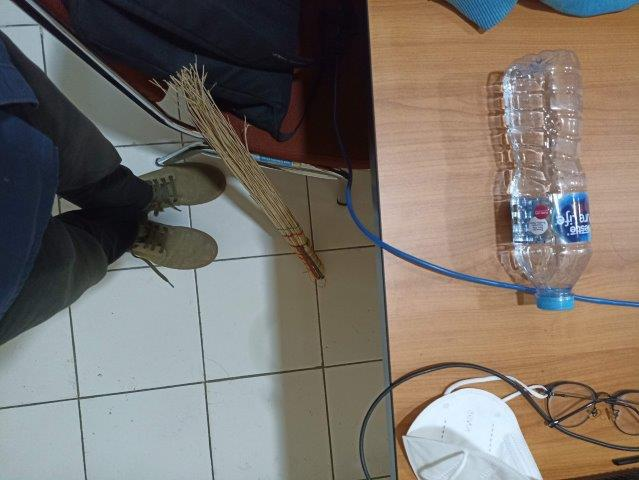botolplastik: (502, 50, 594, 307)
